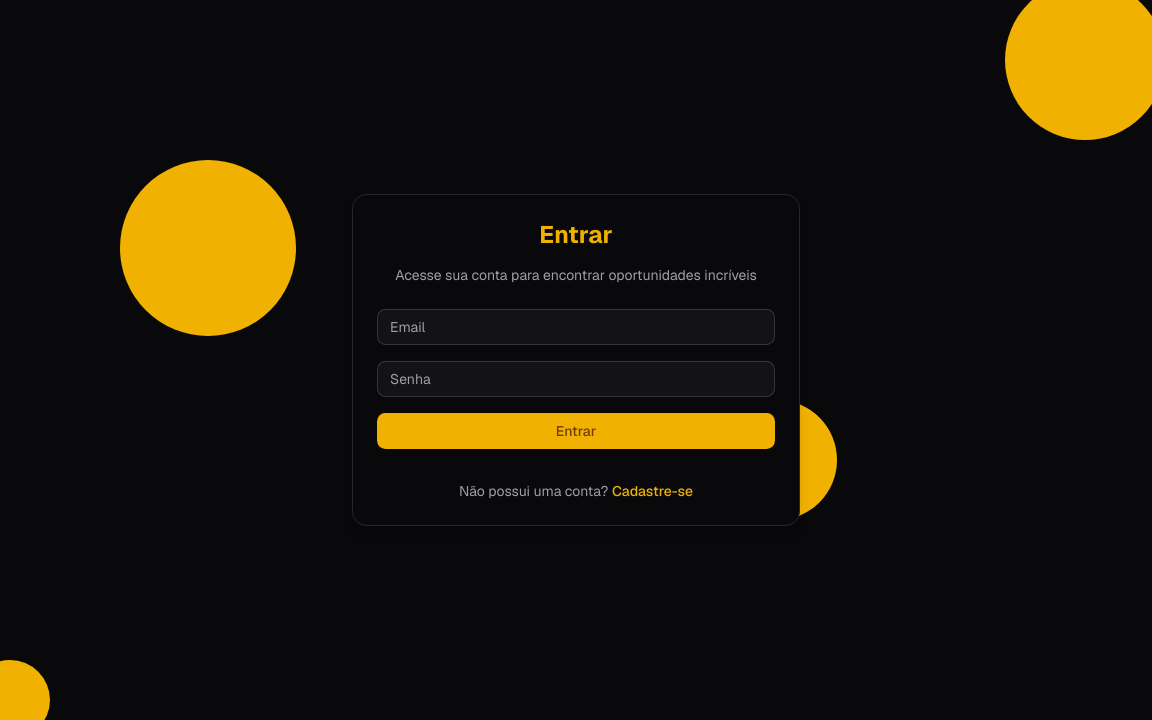
it: Login Page › should be able to shows validation errors when fields are empty
Click the button "Entrar". click: [576, 431]
box: [377,413,775,449]
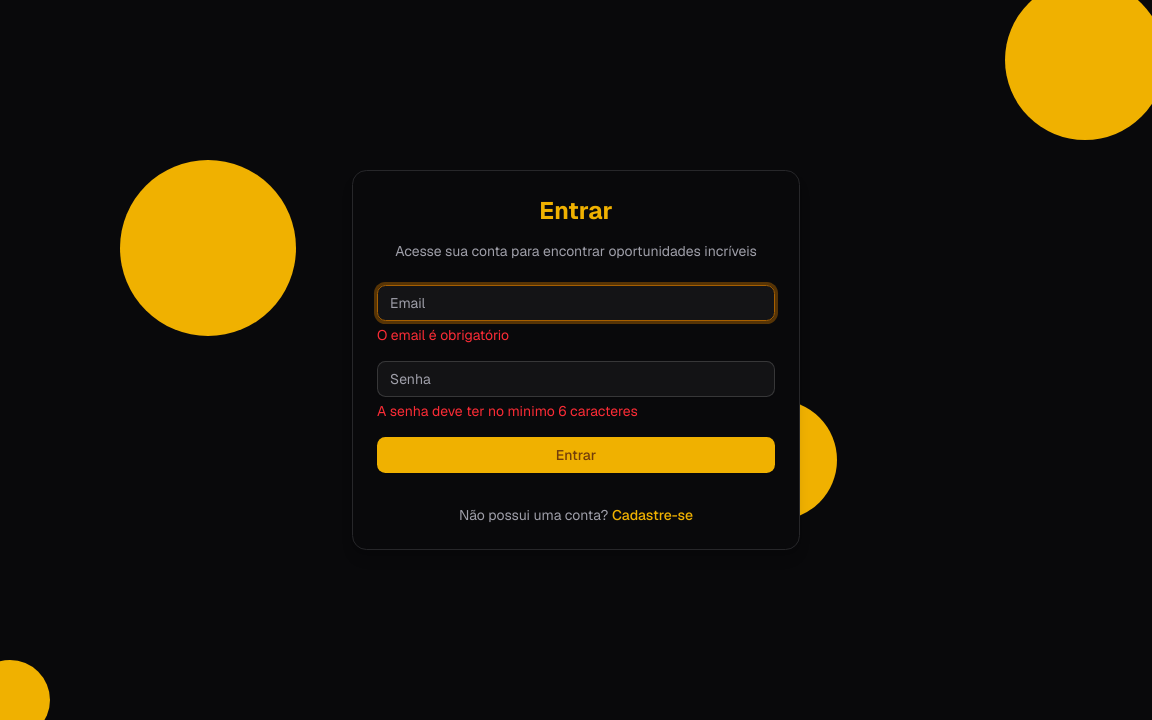
Check: the text "O email é obrigatório" is shown, box [377,326,509,344]
Check: the text "A senha deve ter no minimo 6 caracteres" is shown, box [377,402,638,420]
